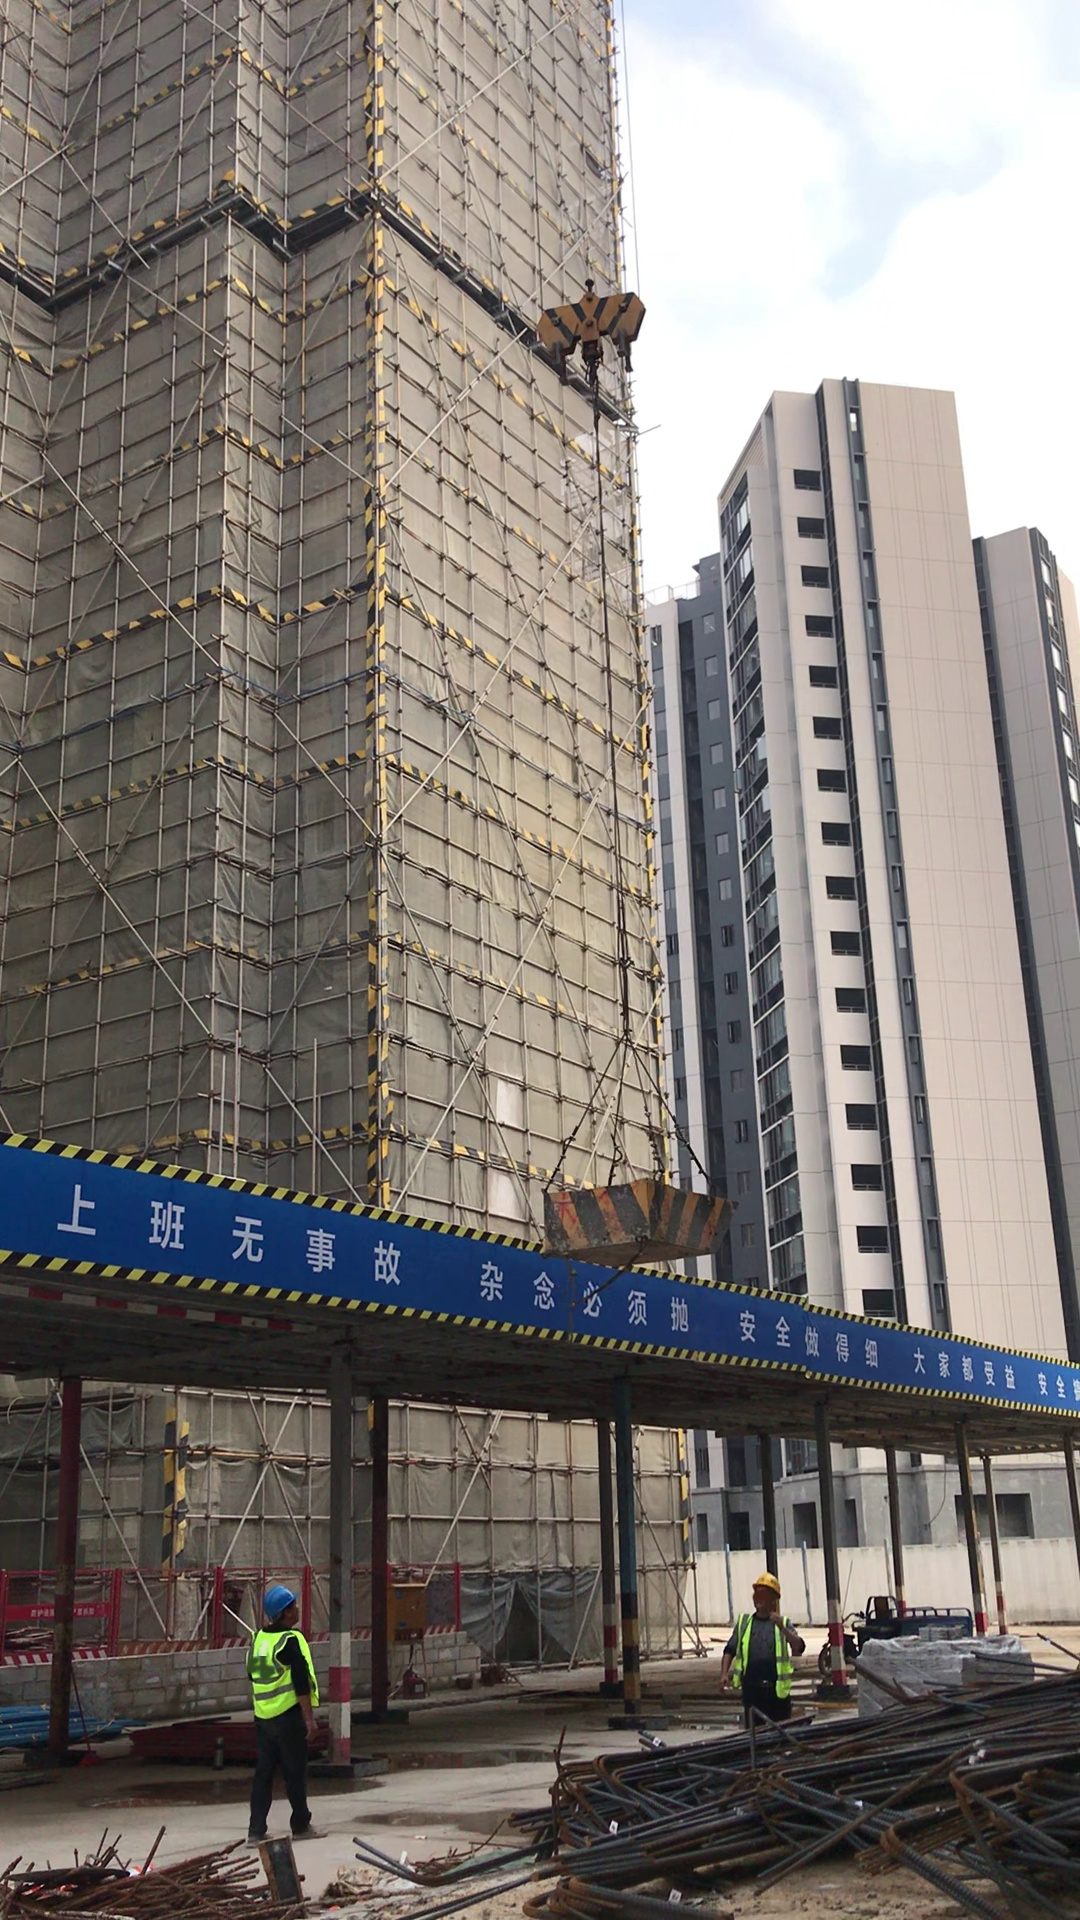fence: (42, 1561, 465, 1662)
helmet: (253, 1582, 299, 1616), (750, 1572, 786, 1595)
hook: (532, 253, 641, 386)
hopper: (542, 1179, 736, 1265)
person: (218, 1584, 343, 1857), (702, 1570, 825, 1741)
slogan: (1, 1136, 1078, 1415)
vest: (245, 1627, 319, 1716), (734, 1613, 794, 1698)
